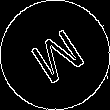M_SE: (22, 21, 88, 89)
